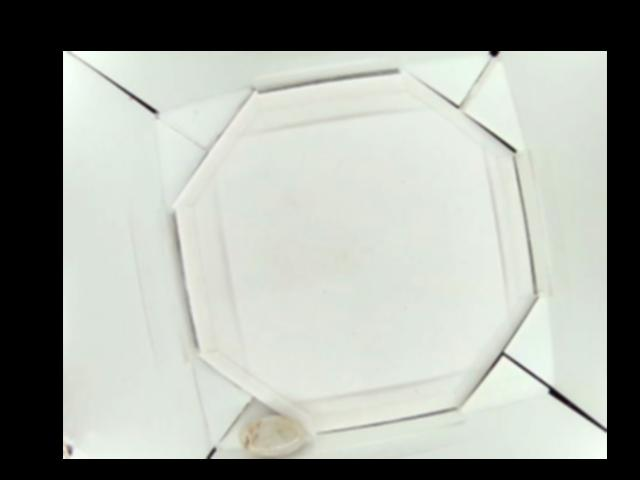Pebble: (238, 413, 311, 458)
